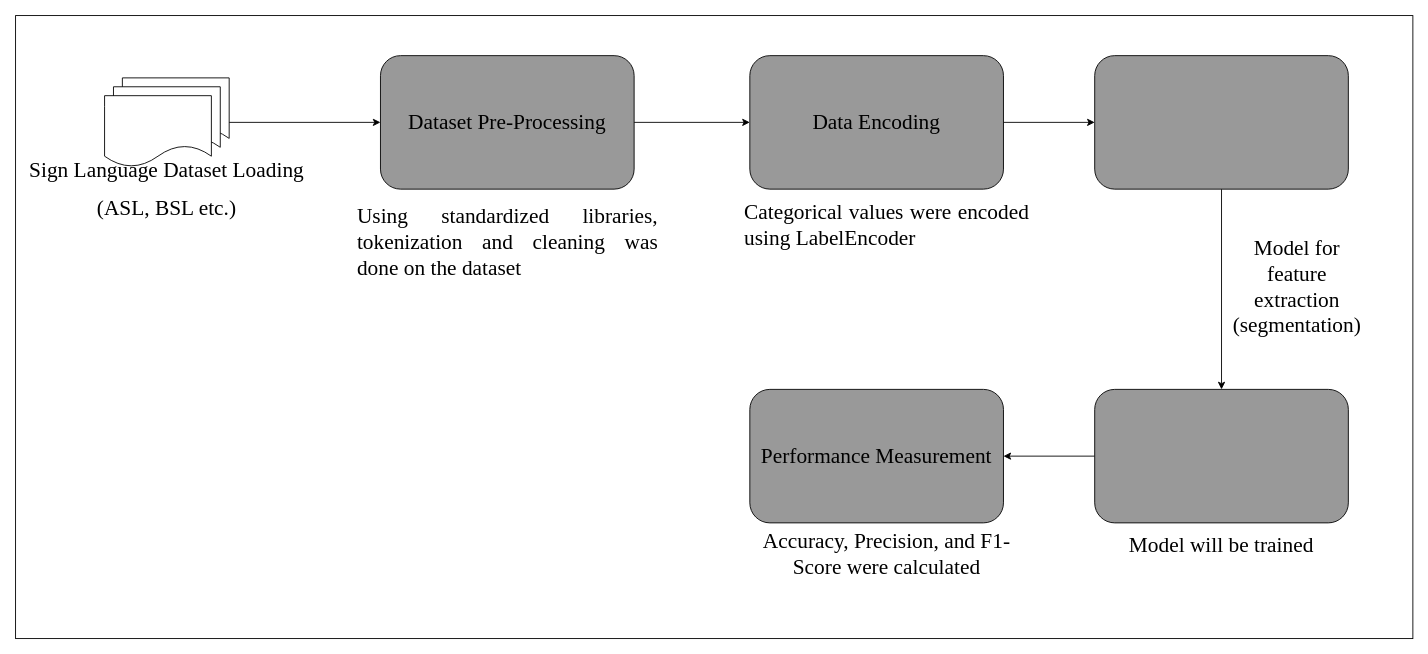
This 1428x654 diagram has some shape labels left out. The box of each missing label's shape, as (x1, y1, x2, y2) in pixels:
Feature Extraction: (1094, 55, 1348, 189)
Model Training: (1094, 388, 1348, 523)
